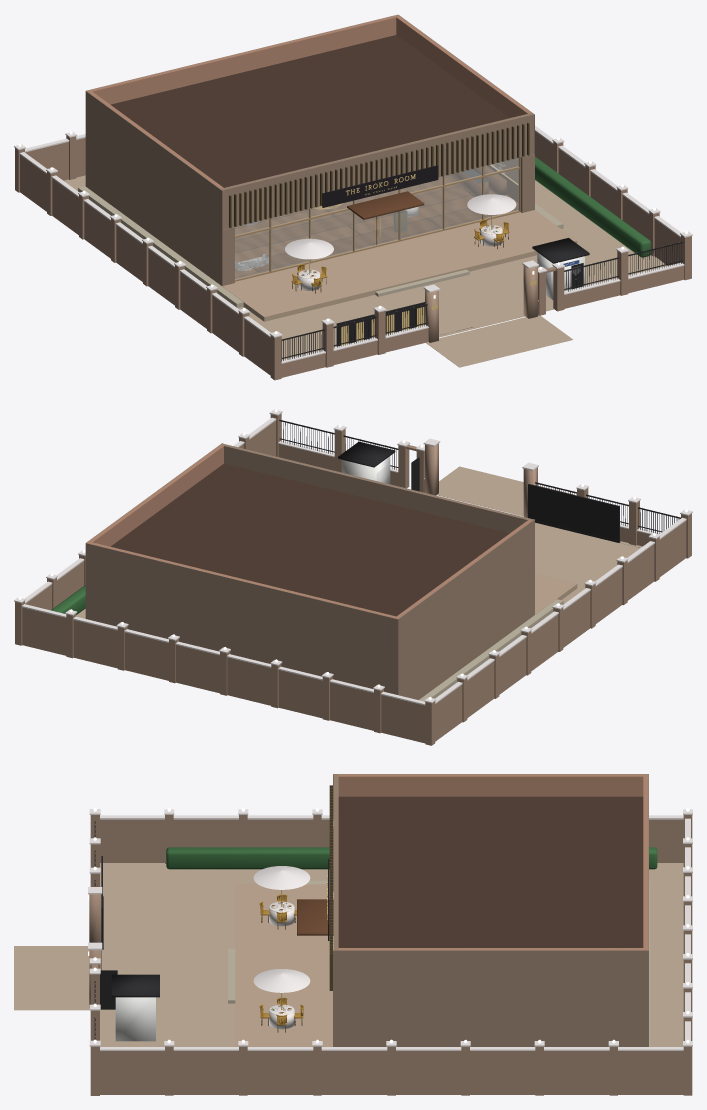
The model's file is set_iroko_room.glb.
3 renders of one model, top to bottom at view 1: azimuth 30°, elevation 25°; view 2: azimuth 150°, elevation 25°; view 3: azimuth 270°, elevation 25°, orthographic. The views are drawn at different scales.
Visible parts, largest first — view 1: GR_set_iroko_room, GD_set_iroko_room; view 2: GR_set_iroko_room; view 3: GR_set_iroko_room, GD_set_iroko_room.
Boxes of the visible parts, <box> form: GR_set_iroko_room: <box>14,14,692,380</box>; GD_set_iroko_room: <box>229,122,574,293</box>; GR_set_iroko_room: <box>14,409,692,745</box>; GR_set_iroko_room: <box>14,774,692,1095</box>; GD_set_iroko_room: <box>259,785,332,1032</box>.
Bounding box in the file's own units: 27.54 × 6.31 × 33.45.
Materials: 23 (6 with a texture image).
